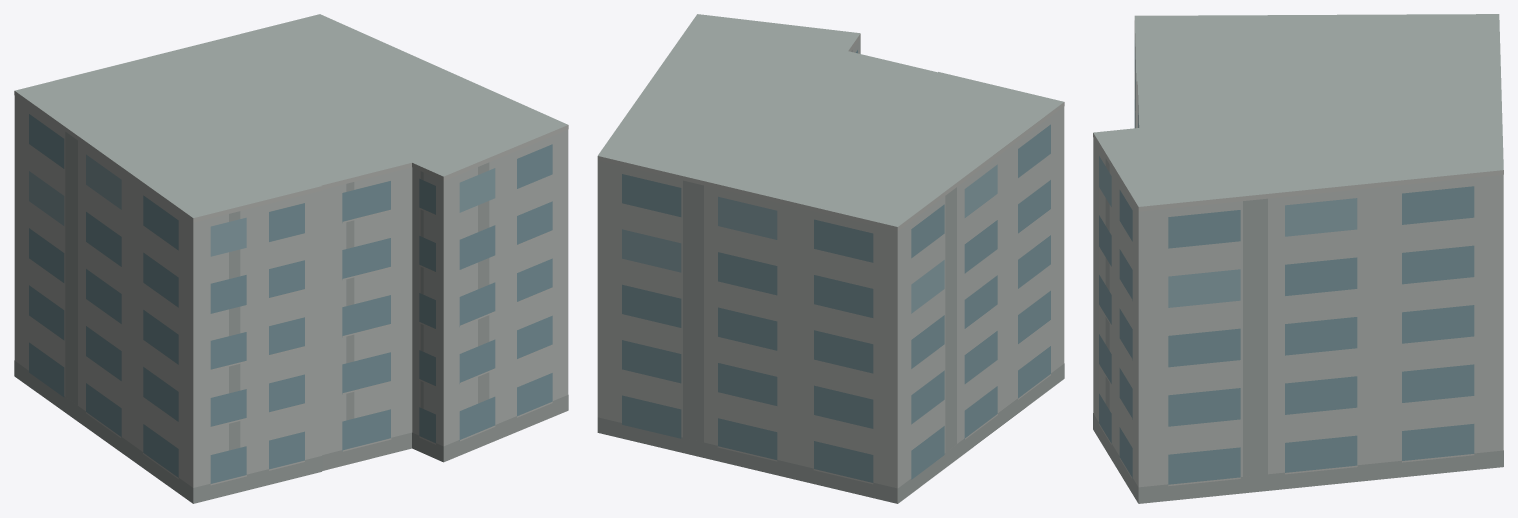
Rendered from survey-upis-32923880.glb.
The picture shows the model from 3 angles, left to right: view 1: azimuth 30°, elevation 25°; view 2: azimuth 150°, elevation 25°; view 3: azimuth 270°, elevation 25°; orthographic projection. The views are drawn at different scales.
Visible parts, largest first — view 1: survey-upis-32923880.tmp; view 2: survey-upis-32923880.tmp; view 3: survey-upis-32923880.tmp.
Part boxes in pixels (bbox=[...]): survey-upis-32923880.tmp: bbox=[14, 14, 568, 503]; survey-upis-32923880.tmp: bbox=[597, 14, 1064, 503]; survey-upis-32923880.tmp: bbox=[1093, 14, 1503, 503].
Size of the model in its own units: 21.26 by 15.25 by 19.12.
